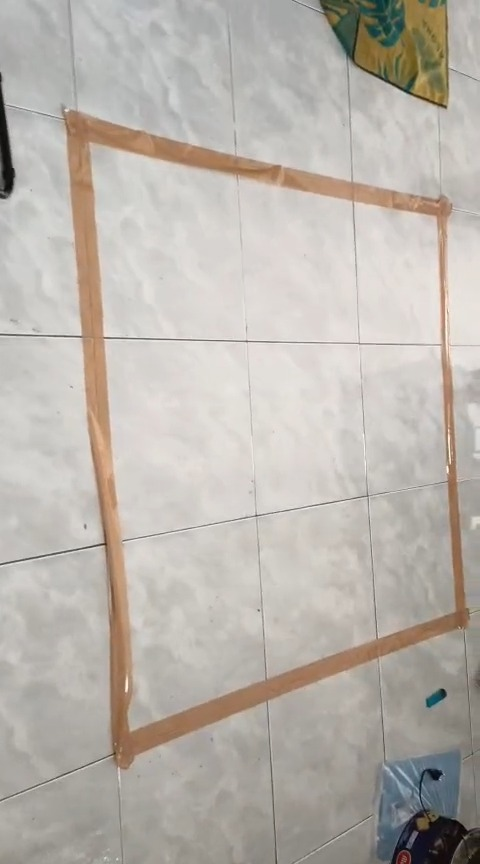floor marking: (65, 111, 468, 768)
